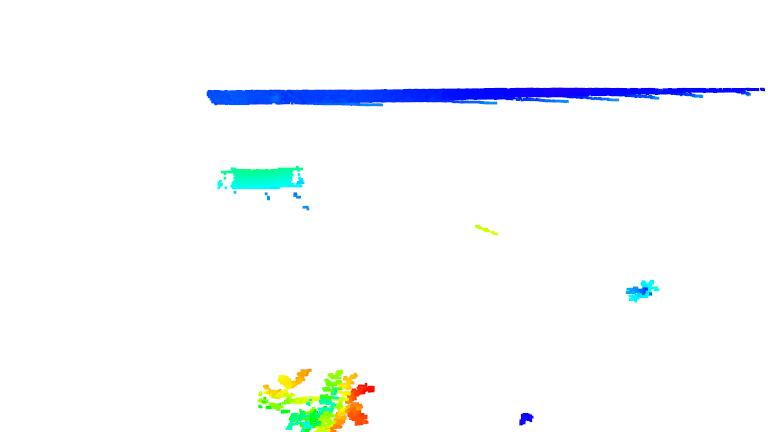chickpea: (305, 366, 379, 432), (249, 363, 316, 432)
